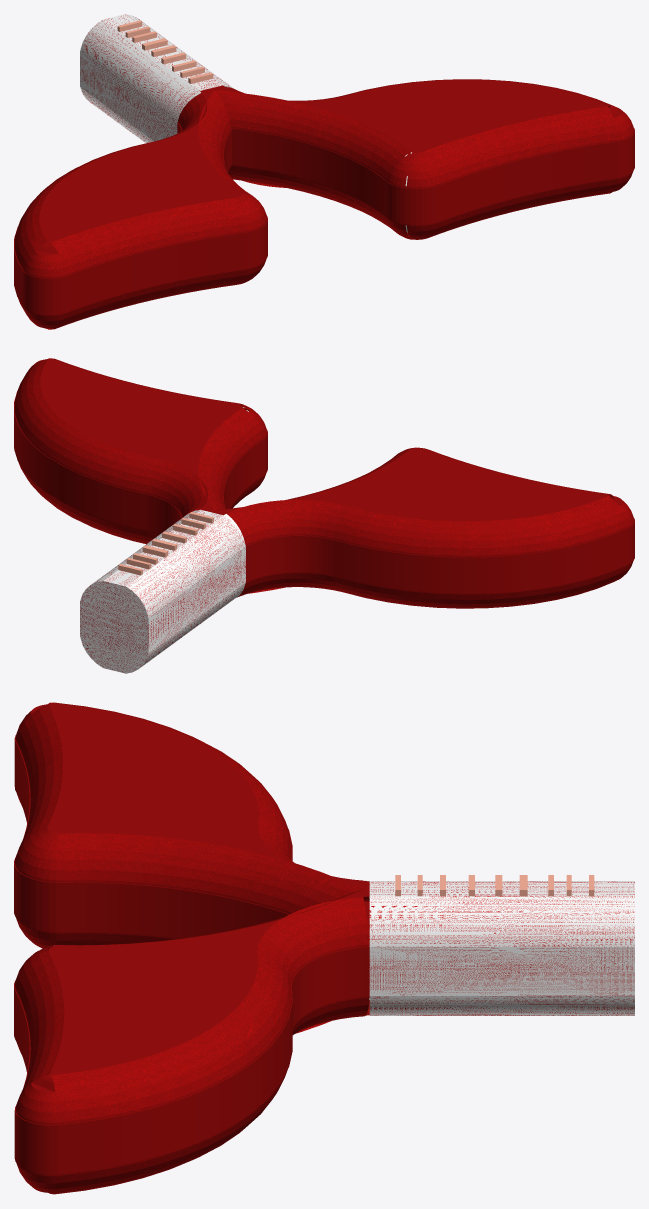
Rendered from paru-paru.dae.
3 renders of one model, top to bottom at view 1: azimuth 30°, elevation 25°; view 2: azimuth 150°, elevation 25°; view 3: azimuth 270°, elevation 25°, orthographic. The views are drawn at different scales.
Visible parts, largest first — view 1: group_0 (×6), group_1 (×5); view 2: group_0 (×6), group_1 (×5); view 3: group_0 (×6), group_1 (×5).
Boxes of the visible parts, bbox=[...] form: group_0 (×6): bbox=[14, 14, 634, 314]; group_1 (×5): bbox=[14, 51, 634, 329]; group_0 (×6): bbox=[14, 358, 634, 653]; group_1 (×5): bbox=[14, 391, 634, 673]; group_0 (×6): bbox=[14, 702, 634, 1174]; group_1 (×5): bbox=[14, 735, 634, 1194].
Size of the model in its own units: 19.41 by 12.64 by 2.81.
